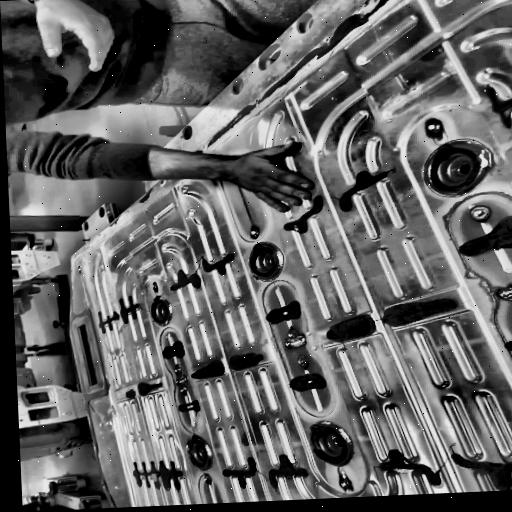b_casing: (46, 0, 512, 510)
